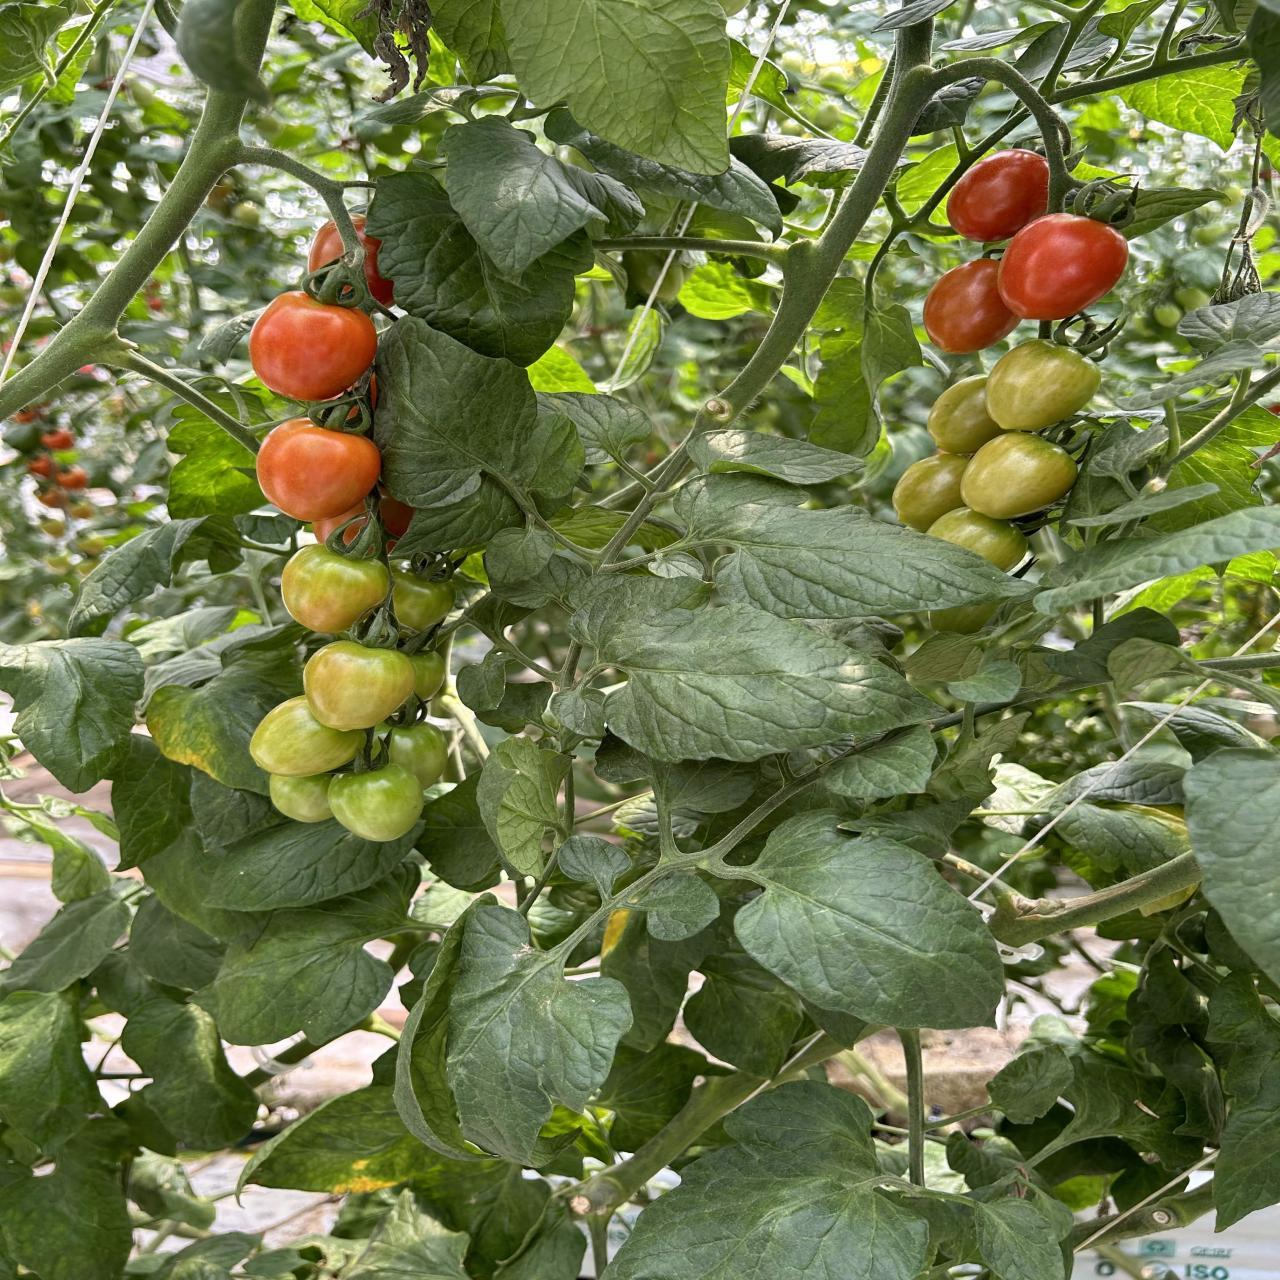Hoja: (571, 576, 938, 761), (602, 1081, 930, 1280), (734, 810, 1002, 1028), (674, 475, 1026, 619), (374, 319, 584, 558), (447, 908, 633, 1164), (367, 171, 593, 366), (499, 0, 730, 176), (210, 867, 417, 1046), (444, 120, 644, 277), (206, 818, 414, 910), (477, 738, 571, 878), (190, 768, 284, 850)
Pedunculo: (599, 19, 1068, 565), (0, 82, 259, 418), (570, 1073, 764, 1220), (233, 0, 275, 81)
Tomate: (248, 291, 377, 401), (998, 213, 1129, 321), (257, 417, 381, 523), (985, 340, 1101, 430), (960, 431, 1077, 519), (304, 641, 416, 730), (281, 544, 390, 633), (946, 149, 1049, 243), (250, 695, 365, 777), (924, 258, 1019, 353), (327, 764, 423, 842), (892, 450, 969, 531), (927, 375, 1001, 456), (270, 774, 332, 823)
